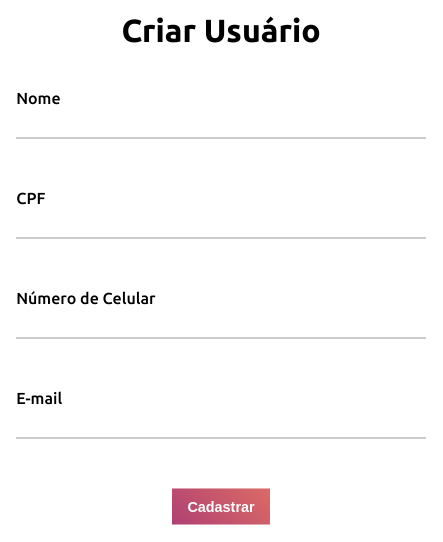
Test: CreateUserForm › shows error message when a long name is inputed
Type "Edgar Edgar Edgar Edgar Edgar Edgar Edgar Edgar" into the field with id "name" at (221, 122), box [16, 106, 426, 138]
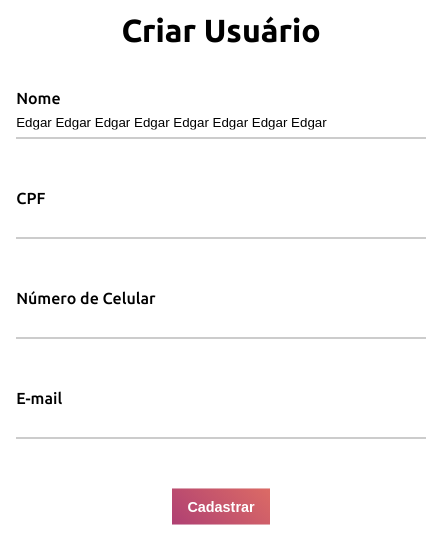
Type "111.728.584-70" into the field with id "cpf" at (221, 222), box [16, 206, 426, 238]
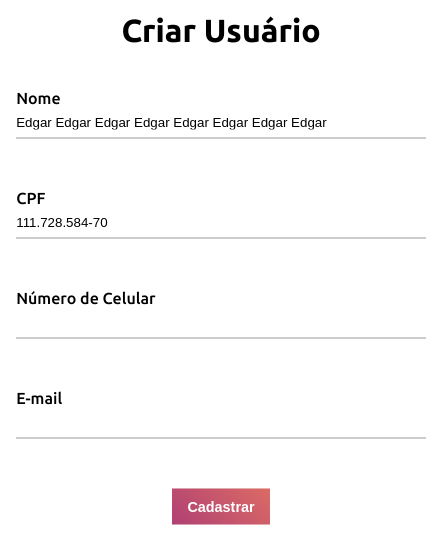
Type "(81) 9 9918-6187" into the field labelled "Número de Celular" at (221, 322), box [16, 306, 426, 338]
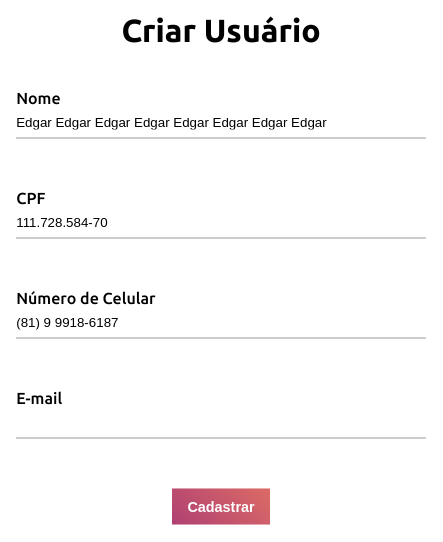
Type "edgarmarques.110@gmail.com" into the field with id "email" at (221, 422), box [16, 406, 426, 438]
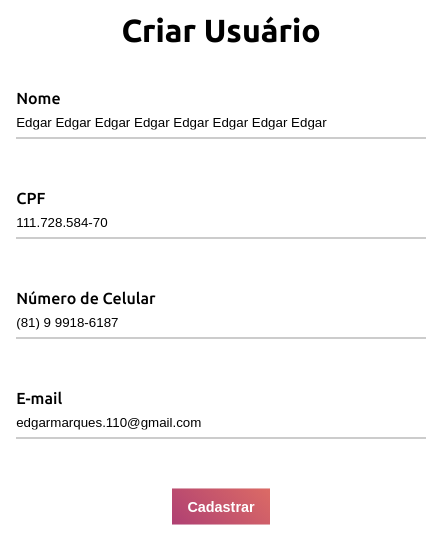
Submit the form
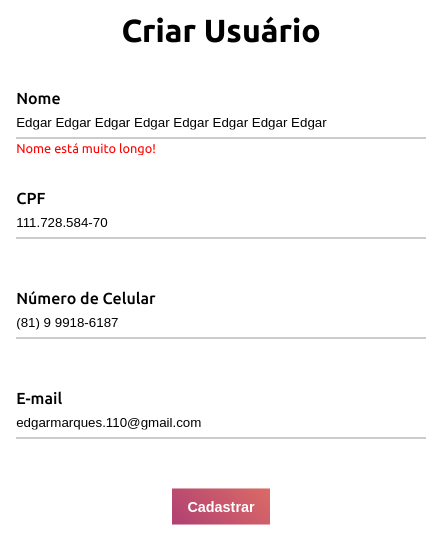
Expected: the text "Nome está muito longo!" is shown, [16, 141, 156, 155]
